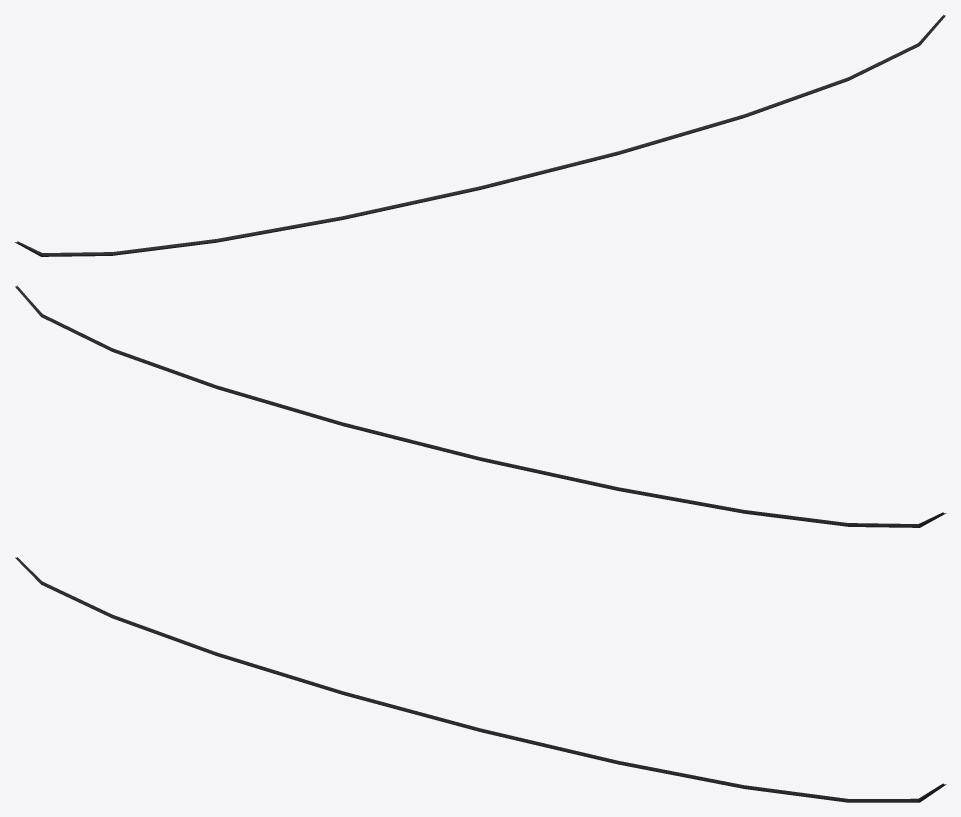
File: TrussA.glb
3 renders of one model, top to bottom at view 1: azimuth 30°, elevation 25°; view 2: azimuth 150°, elevation 25°; view 3: azimuth 330°, elevation 25°, orthographic.
Visible parts, largest first — view 1: Obj_TT_tube; view 2: Obj_TT_tube; view 3: Obj_TT_tube.
Part boxes in pixels (x1,y1,x2,y2): Obj_TT_tube: [14, 14, 945, 256]; Obj_TT_tube: [15, 285, 946, 527]; Obj_TT_tube: [15, 557, 946, 802].
Bounding box in the file's own units: 24.89 × 1.58 × 0.0969.
Materials: 1 (1 with a texture image).
